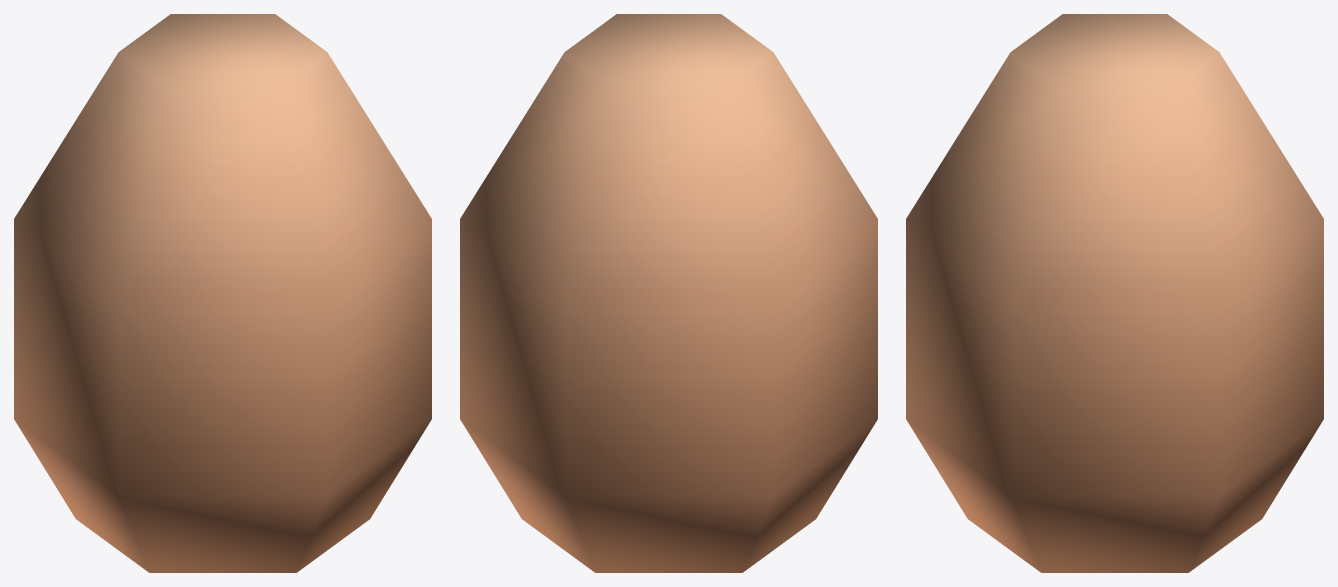
Rendered from food.egg.glb.
3 renders of one model, left to right at view 1: azimuth 30°, elevation 25°; view 2: azimuth 150°, elevation 25°; view 3: azimuth 270°, elevation 25°, orthographic.
Parts seen in each view (by area): view 1: egg; view 2: egg; view 3: egg.
Part boxes in pixels (<box>): egg: <box>14,14,431,572</box>; egg: <box>460,14,877,572</box>; egg: <box>906,14,1323,572</box>.
Size of the model in its own units: 0.0345 by 0.0491 by 0.0398.
Materials: 1 (1 with a texture image).
